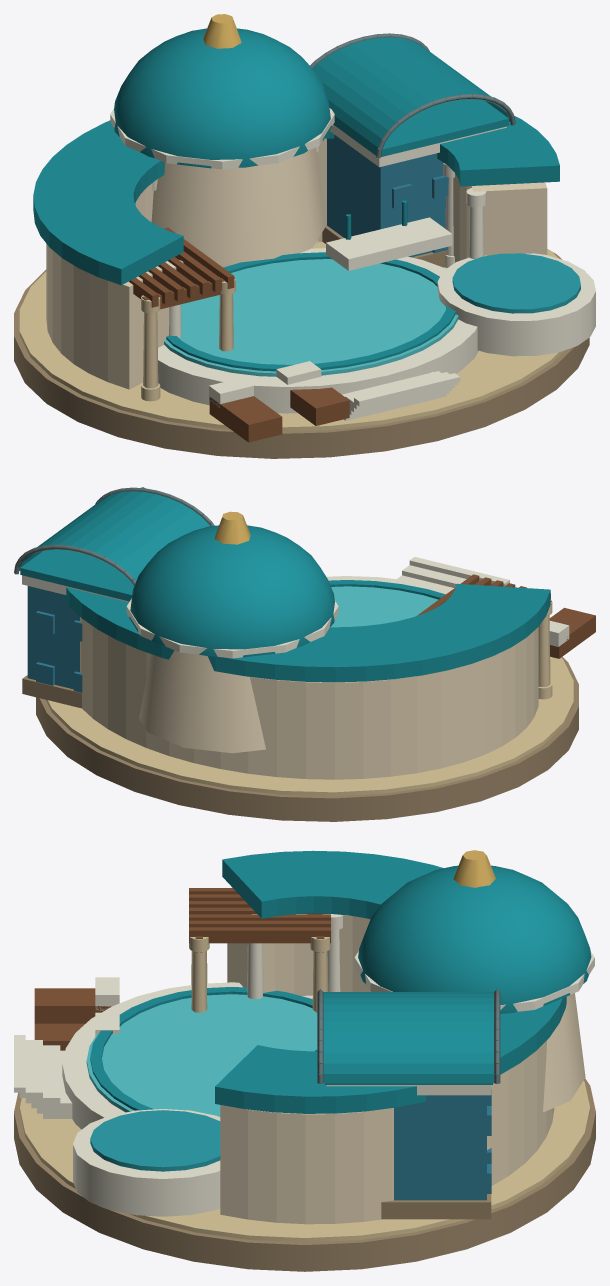
The model's file is recovery-center-lv4.glb.
The picture shows the model from 3 angles, top to bottom: view 1: azimuth 30°, elevation 25°; view 2: azimuth 150°, elevation 25°; view 3: azimuth 270°, elevation 25°; orthographic projection. The views are drawn at different scales.
Parts seen in each view (by area): view 1: recovery_dome_aqua, water_pool, crescent_roof_aqua, crescent_bathhouse_cream, foundation_stoneDark, recovery_pavilion_cream, foundation_sand, rehabilitation_roof_aqua, pool_terrace_white, rehabilitation_hall_glass, raised_pool_white, side_water_water (+14 smaller); view 2: crescent_bathhouse_cream, recovery_dome_aqua, crescent_roof_aqua, foundation_stoneDark, foundation_sand, recovery_pavilion_cream, rehabilitation_roof_aqua, rehabilitation_hall_glass, rehabilitation_hall_roof_aqua, water_pool, pool_steps_white, recovery_dome_white (+11 smaller); view 3: crescent_bathhouse_cream, recovery_dome_aqua, crescent_roof_aqua, foundation_stoneDark, water_pool, rehabilitation_roof_aqua, foundation_sand, rehabilitation_hall_glass, raised_pool_white, side_water_water, recovery_pergola_wood, pool_terrace_white (+12 smaller).
Boxes of the visible parts, x1,y1,x2,y2 form: recovery_dome_aqua: (114,28,331,168); water_pool: (164,259,458,376); crescent_roof_aqua: (33,116,559,285); crescent_bathhouse_cream: (46,138,547,389); foundation_stoneDark: (14,250,589,458); recovery_pavilion_cream: (151,147,325,267); foundation_sand: (19,242,564,431); rehabilitation_roof_aqua: (312,37,509,155); pool_terrace_white: (158,248,478,413); rehabilitation_hall_glass: (327,134,445,256); raised_pool_white: (437,253,595,356); side_water_water: (452,253,580,313); crescent_bathhouse_cream: (80,617,538,779); recovery_dome_aqua: (129,525,334,657); crescent_roof_aqua: (64,487,550,682); foundation_stoneDark: (36,657,578,821); foundation_sand: (46,656,573,796); recovery_pavilion_cream: (139,650,265,753); rehabilitation_roof_aqua: (19,491,210,580); rehabilitation_hall_glass: (27,586,79,689); rehabilitation_hall_roof_aqua: (20,549,134,601); water_pool: (330,586,438,627); pool_steps_white: (397,557,509,589); recovery_dome_white: (126,598,338,658); crescent_bathhouse_cream: (220,887,554,1224); recovery_dome_aqua: (358,865,591,1013); crescent_roof_aqua: (215,850,566,1113); foundation_stoneDark: (14,1078,595,1271); water_pool: (86,994,317,1116); rehabilitation_roof_aqua: (323,992,493,1083); foundation_sand: (19,1080,590,1242); rehabilitation_hall_glass: (394,1095,486,1200); raised_pool_white: (73,1109,220,1216); side_water_water: (90,1110,220,1171); recovery_pergola_wood: (189,888,330,952); pool_terrace_white: (62,982,312,1129).
Size of the model in its own units: 1 by 0.4959 by 0.9231.
